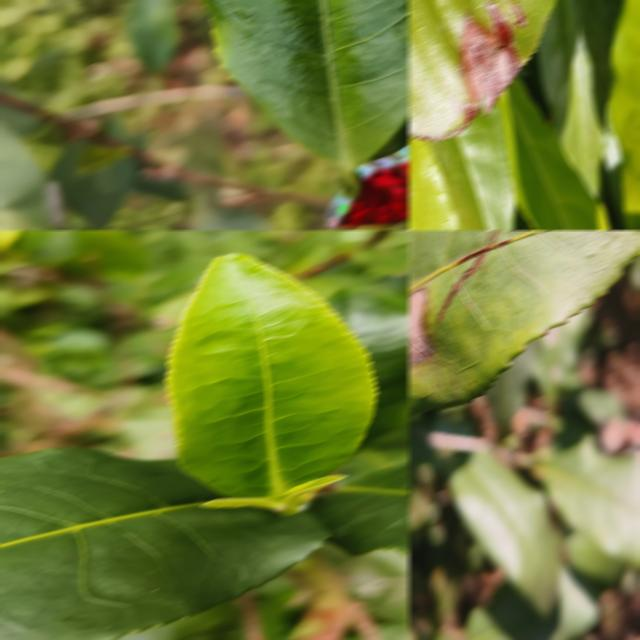Leaf: (0, 448, 327, 640), (167, 254, 377, 498), (408, 230, 640, 416), (201, 0, 410, 192), (408, 0, 556, 139), (448, 453, 562, 616), (497, 78, 611, 230), (535, 0, 615, 197), (531, 436, 640, 569), (328, 285, 410, 404), (311, 463, 410, 555), (0, 120, 55, 230), (408, 137, 461, 230), (126, 0, 181, 70)
